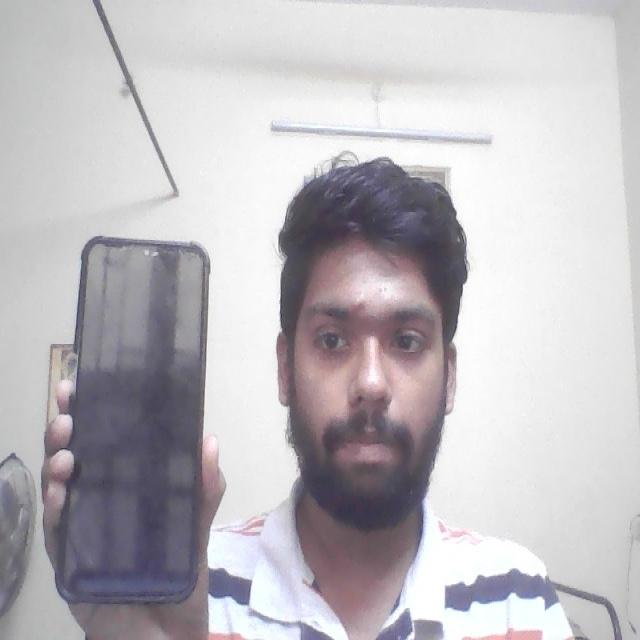Mobile: (52, 231, 215, 604)
